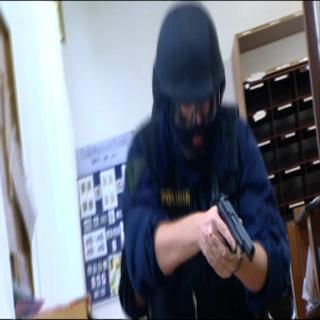gun: (200, 193, 256, 277)
